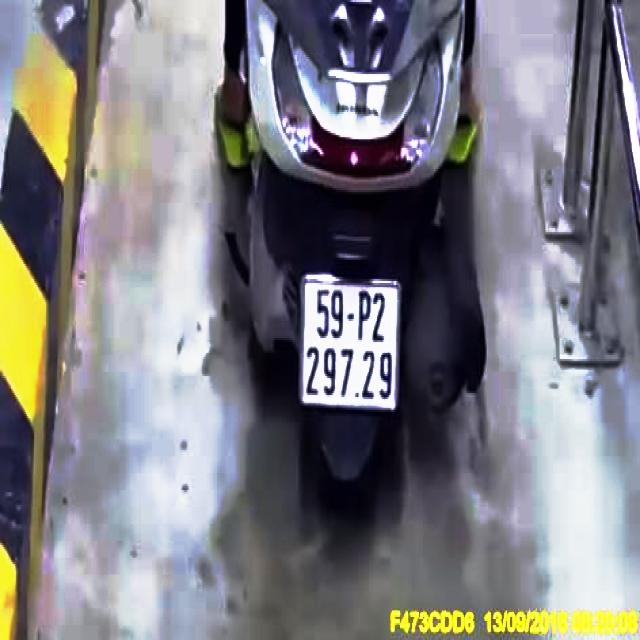license_plate: (303, 277, 399, 411)
